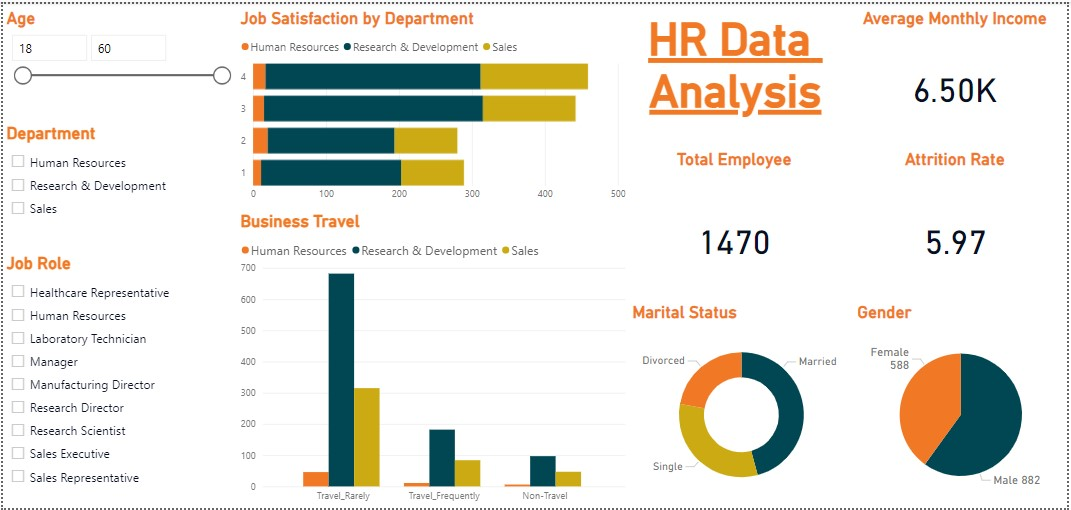

Layout of this report page (visuals, bound fields, positions):
{"tool":"powerbi","page":{"name":"Page 1","canvas":[1520,720],"ordinal":0},"visuals":[{"type":"slicer","title":"Age","fields":{"Values":["HR-Employee-Attrition (3).Age"]},"box":[0,7.2,334.1,125.3],"z":0},{"type":"card","title":"Attrition Rate","fields":{"Values":["HR.Attrition Rate per Year"]},"box":[1198.1,208.8,322.6,224.6],"z":1},{"type":"slicer","title":"Department","fields":{"Values":["HR.Department"]},"box":[0,171.4,334.1,149.8],"z":2},{"type":"slicer","title":"Job Role","fields":{"Values":["HR.JobRole"]},"box":[0,357.1,334.1,344.2],"z":4},{"type":"card","title":"Total Employee","fields":{"Values":["HR.Total Number Of Employees"]},"box":[892.8,208.8,303.8,224.6],"z":5},{"type":"pieChart","title":"Gender","fields":{"Category":["HR.Gender"],"Y":["CountNonNull(HR.Gender)"]},"box":[1215.4,427.7,305.3,292.3],"z":6},{"type":"donutChart","title":"Marital Status","fields":{"Category":["HR.MaritalStatus"],"Y":["CountNonNull(HR.MaritalStatus)"]},"box":[894.2,427.7,321.1,292.3],"z":8},{"type":"card","title":"Average Monthly Income","fields":{"Values":["Avg(HR.MonthlyIncome)"]},"box":[1198.1,7.2,322.6,193],"z":9},{"type":"barChart","title":"Job Satisfaction by Department","fields":{"Category":["HR.JobSatisfaction"],"Series":["HR.Department"],"Y":["CountNonNull(HR.Department)"]},"box":[334.1,7.2,560.2,282.2],"z":10},{"type":"clusteredColumnChart","title":"Business Travel","fields":{"Category":["HR.BusinessTravel"],"Y":["CountNonNull(HR.Department)"],"Series":["HR.Department"]},"box":[334.1,296.6,560.2,423.4],"z":11},{"type":"textbox","box":[894,7,304,186],"z":12}]}

Visuals, with their boxes in screenshot pixels (x1, y1, x2, y2), scaled from the page's 1520x720 canvas onto the 1071x510 screenshot:
"Age" slicer: [0,5,235,94]
"Attrition Rate" card: [844,148,1070,307]
"Department" slicer: [0,121,235,228]
"Job Role" slicer: [0,253,235,497]
"Total Employee" card: [629,148,843,307]
"Gender" pieChart: [856,303,1070,509]
"Marital Status" donutChart: [630,303,856,509]
"Average Monthly Income" card: [844,5,1070,142]
"Job Satisfaction by Department" barChart: [235,5,630,205]
"Business Travel" clusteredColumnChart: [235,210,630,509]
textbox: [630,5,844,137]
